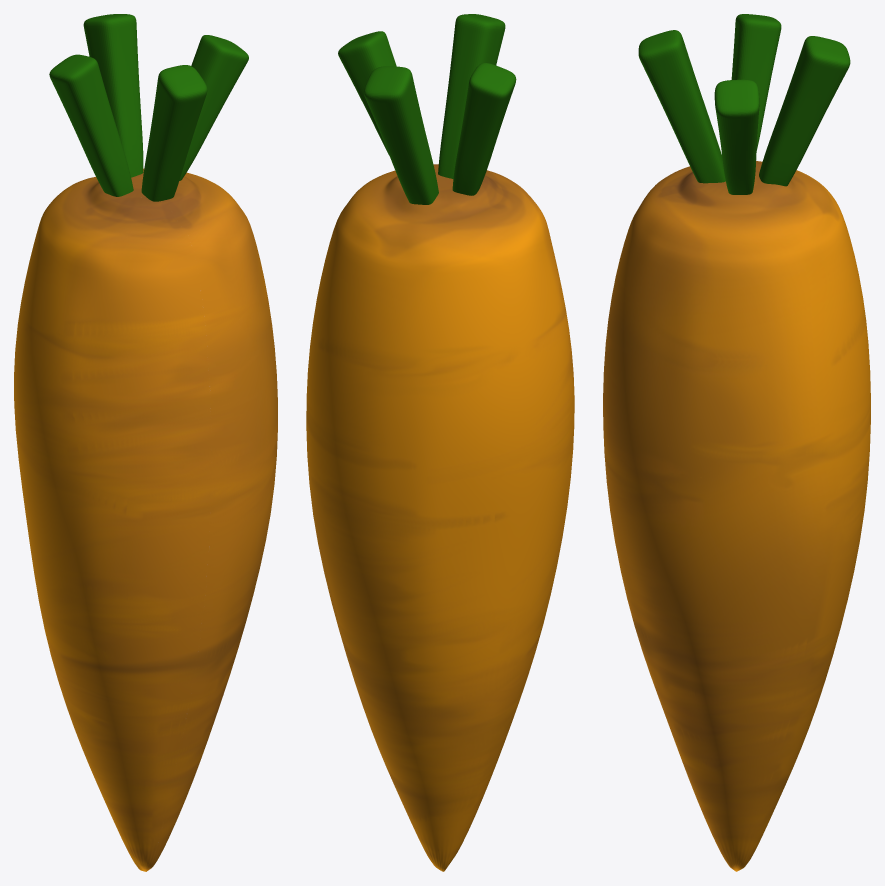
Rendered from Carrot.fbx.
3 renders of one model, left to right at view 1: azimuth 30°, elevation 25°; view 2: azimuth 150°, elevation 25°; view 3: azimuth 270°, elevation 25°, orthographic.
Visible parts, largest first — view 1: Cylinder, Cube.003, Cube, Cube.001, Cube.002; view 2: Cylinder, Cube.001, Cube.003, Cube, Cube.002; view 3: Cylinder, Cube.001, Cube, Cube.002, Cube.003.
Part boxes in pixels (x1,y1,x2,y2): Cylinder: [14, 168, 277, 871]; Cube.003: [49, 54, 133, 196]; Cube: [141, 65, 207, 201]; Cube.001: [83, 14, 143, 177]; Cube.002: [179, 35, 248, 180]; Cylinder: [306, 164, 574, 871]; Cube.001: [364, 66, 438, 204]; Cube.003: [452, 63, 516, 195]; Cube: [438, 14, 505, 178]; Cube.002: [338, 31, 396, 155]; Cylinder: [603, 161, 870, 871]; Cube.001: [759, 36, 850, 186]; Cube: [638, 30, 725, 183]; Cube.002: [714, 79, 759, 194]; Cube.003: [731, 14, 781, 150].
Bounding box in the file's own units: 2.05 × 7.07 × 2.05.
2 materials, 1 textured.
